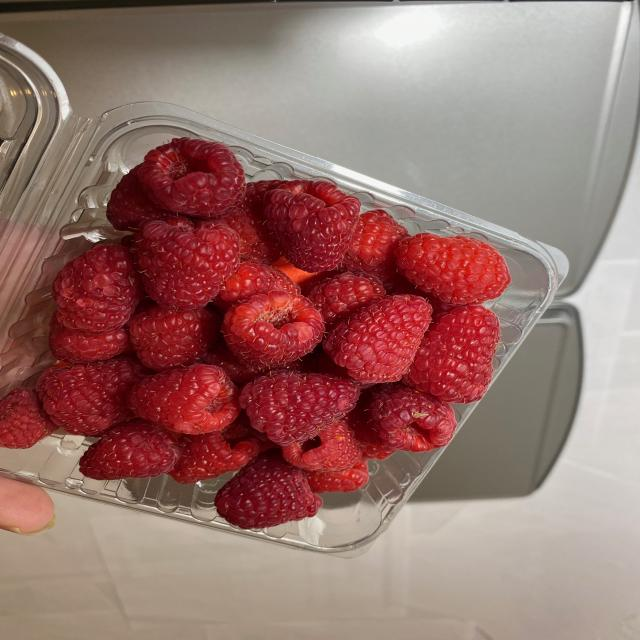raspberries: (22, 198, 494, 477)
